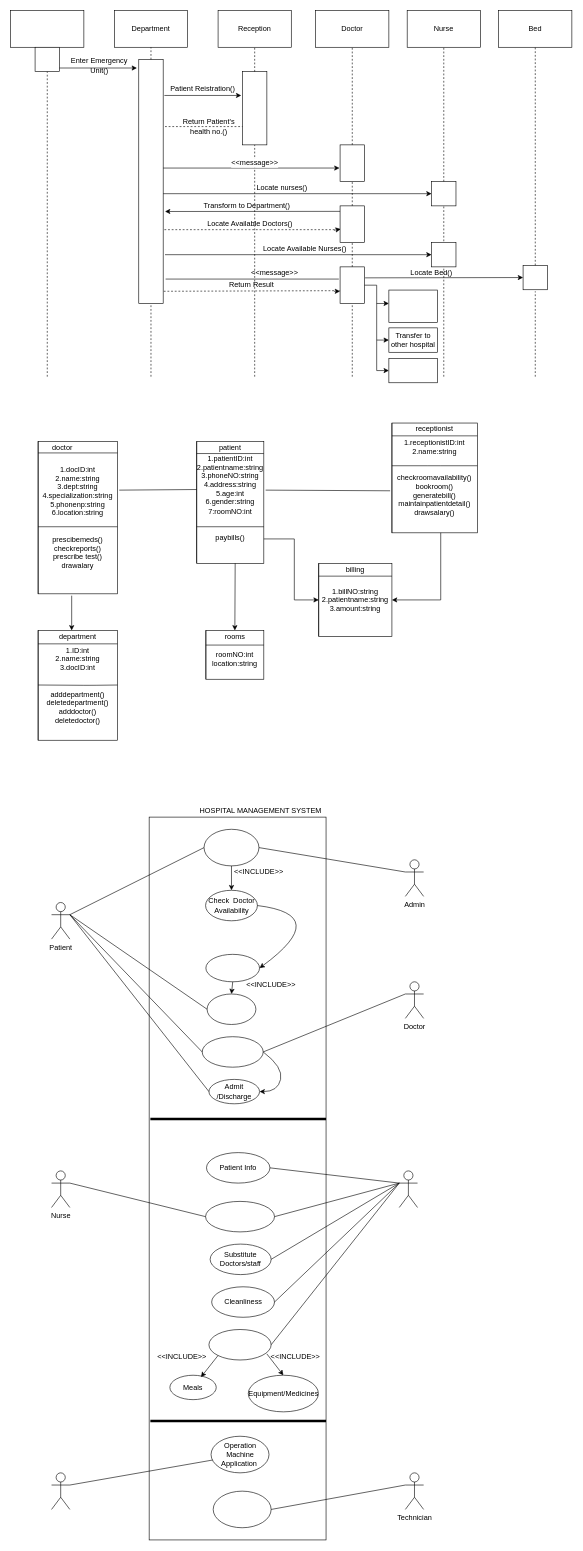
Image size: 583x1551. Some labels were removed from this diagram. The centre of each missing label's shape, as x and y in pixels:
Book Appointment: (x=231, y=847)
Checkup: (x=232, y=968)
Death: (x=413, y=370)
Emergency Patient: (x=47, y=28)
Employee: (x=408, y=1188)
Operation Machine Repair: (x=242, y=1509)
Patient Treatment Done. Check out: (x=413, y=305)
Prescription: (x=232, y=1051)
Supplies: (x=239, y=1344)
Technoligist: (x=60, y=1490)
Test Results: (x=231, y=1008)
Ward based bed status: (x=239, y=1216)
